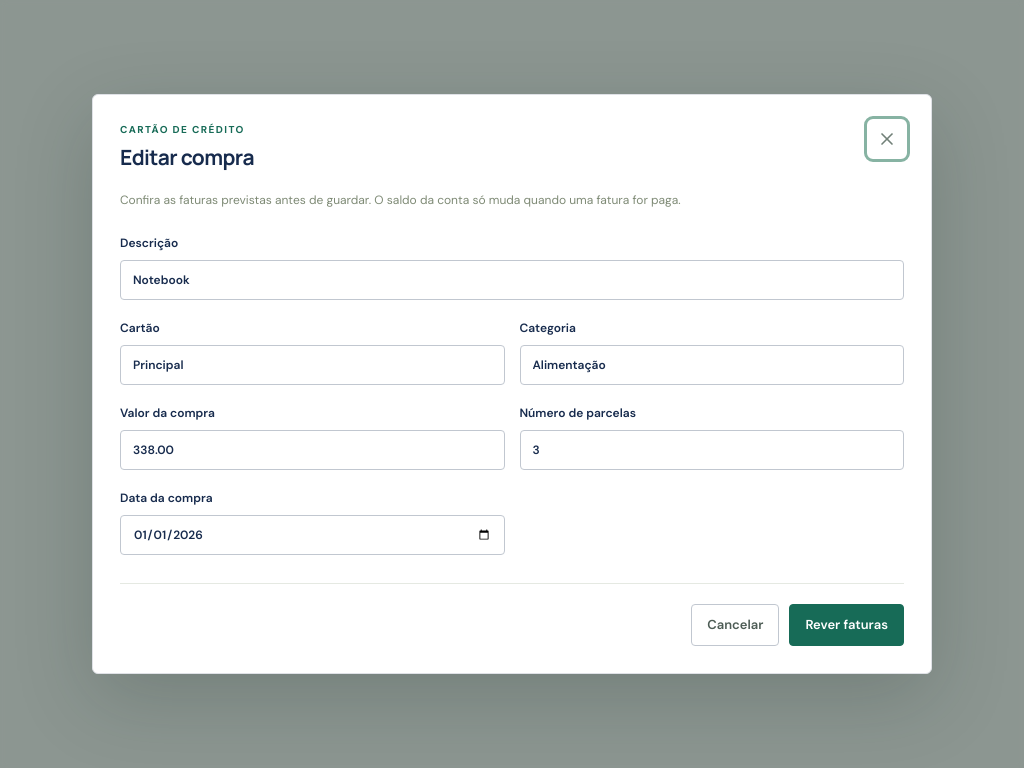
Scenario: financial UI flows › loads an existing purchase with its installment count and editable schedule
expect the field showing "Notebook" is shown: met, box [120,260,904,300]
expect the number field labelled "Número de parcelas" holds "3": met, box [520,430,904,470]
Click the button "Rever faturas". click: (847, 625)
box: [789,604,904,646]
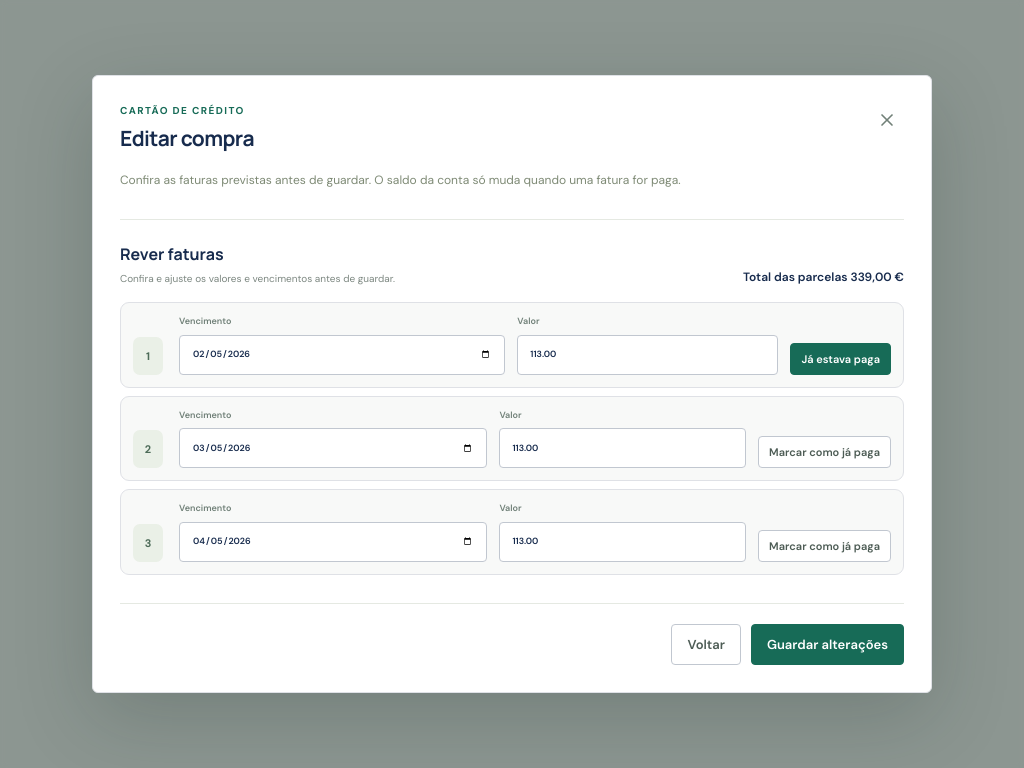
expect the number of fields named "Valor da parcela" is 3: met, box [517,335,778,375]; [499,428,746,468]; [499,522,746,562]
expect the button "Já estava paga" is shown: met, box [790,343,891,375]
